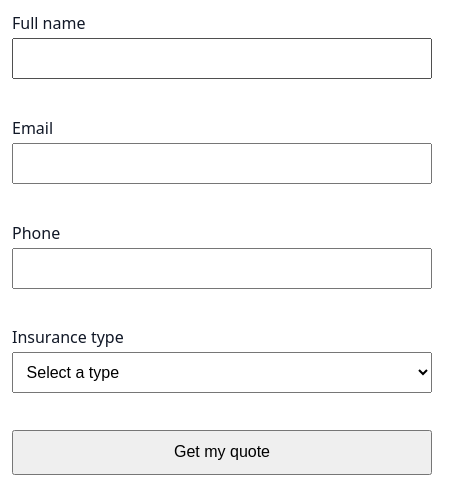
Test: QuoteForm › shows an error for a too-short name
Type "A" into the field labelled "Full name" at (222, 59), box [12,38,432,79]
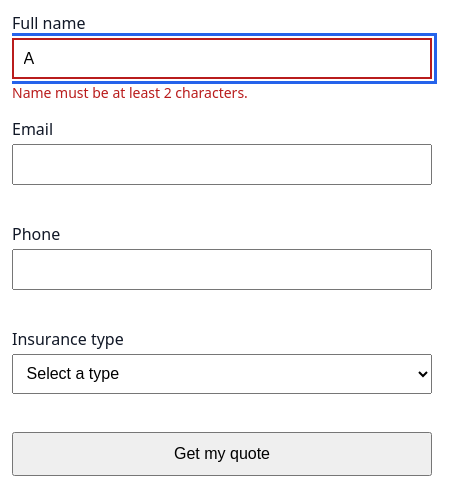
Expected: the text "Name must be at least 2 characters." is shown, [12,83,248,102]
